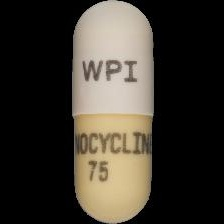0591-3153: (0, 0, 224, 224)
